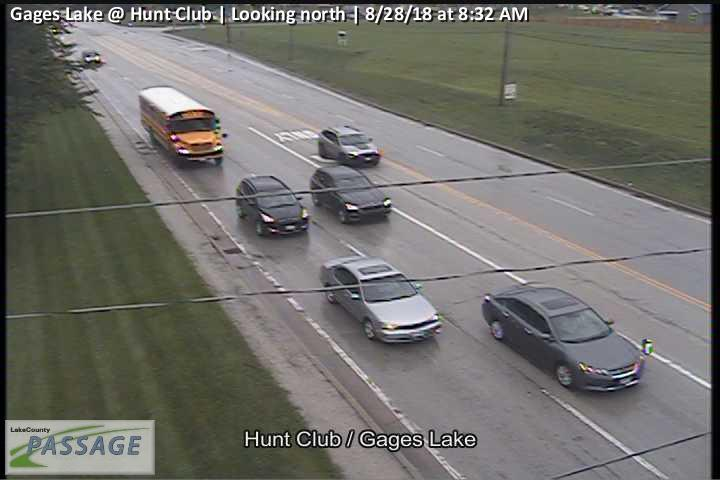Bus: (141, 86, 228, 167)
SUV: (311, 165, 392, 224), (236, 176, 309, 235), (320, 126, 380, 167)
Sedan: (481, 282, 644, 391), (320, 254, 441, 343)
